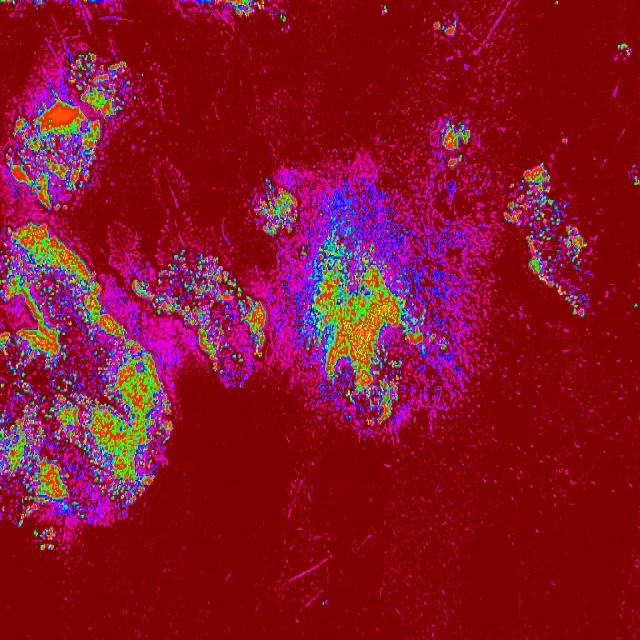fire: (281, 237, 455, 446), (0, 326, 134, 526), (4, 52, 136, 207), (134, 250, 266, 390), (503, 161, 592, 318), (0, 221, 119, 325), (313, 174, 401, 238), (133, 392, 176, 498), (248, 177, 300, 237), (434, 119, 474, 172), (208, 0, 264, 16), (30, 525, 58, 554), (433, 19, 456, 39), (626, 161, 640, 188), (618, 41, 634, 61), (376, 3, 389, 17), (0, 0, 18, 8), (276, 12, 286, 24), (30, 0, 44, 8), (561, 135, 570, 146), (138, 70, 146, 80), (552, 0, 560, 8), (632, 302, 638, 312), (321, 600, 328, 608), (82, 0, 92, 5)
